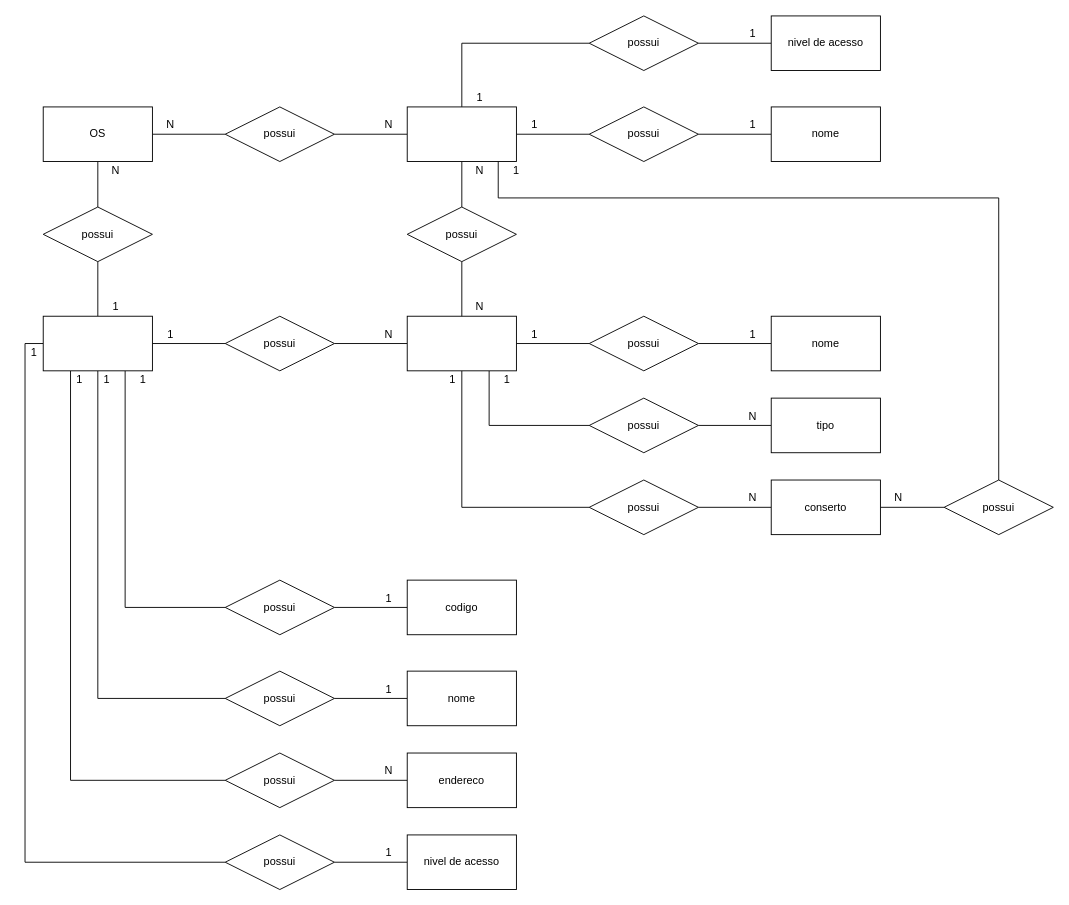
This 1069x905 diagram has some shape labels left out. Here are the shapes that lost their labels. From the top down, the centre of each, then its label:
At [461,134]: "tecnico".
At [97,343]: "cliente".
At [461,343]: "equipamento".
